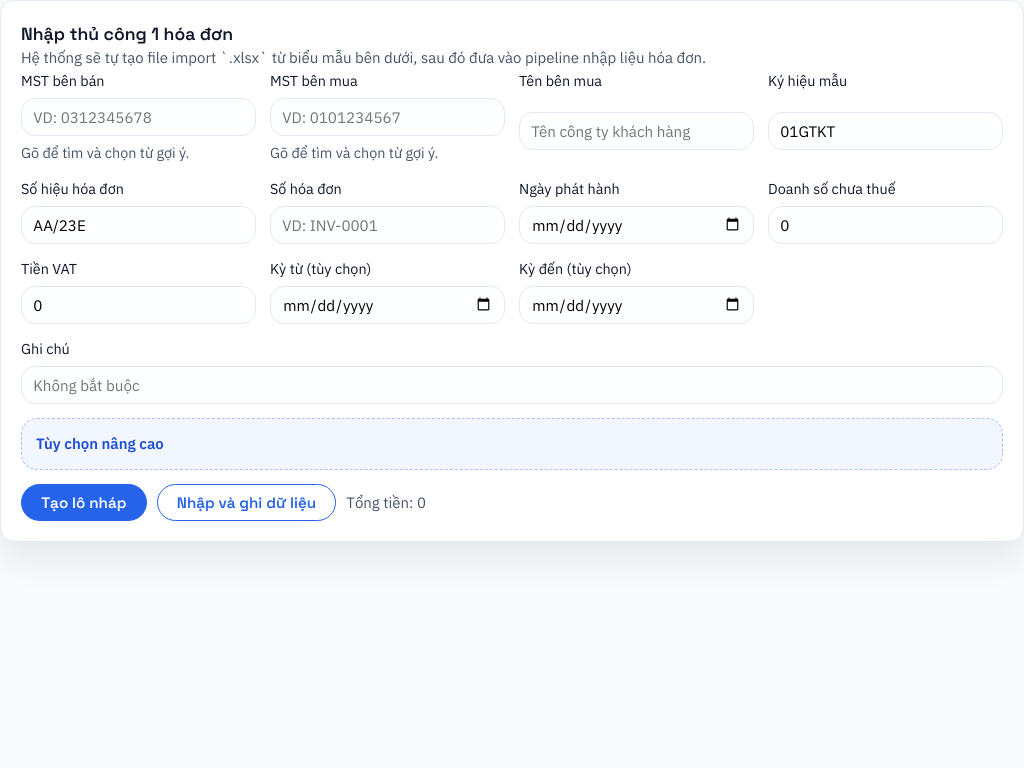
Test: ManualInvoicesSection › validates required invoice fields before upload
Click the button "Tạo lô nháp": (84, 503) [21,484,146,521]
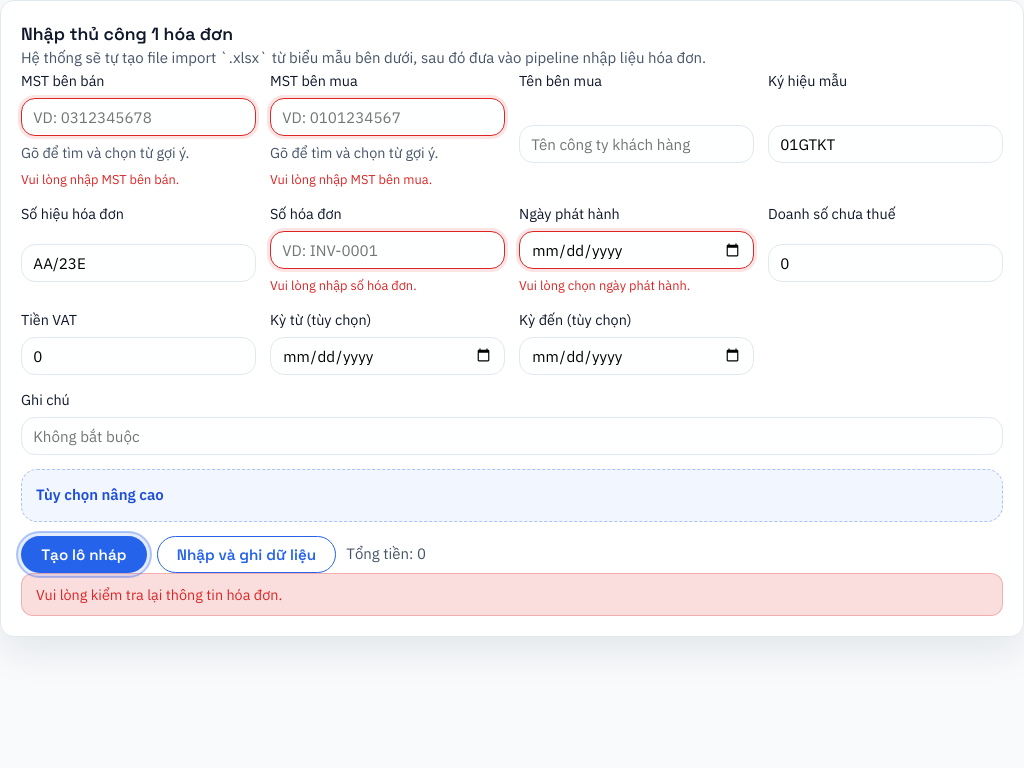
expect the text "Vui lòng kiểm tra lại thông tin hóa đơn." is shown: met, box [21,572,1003,616]
expect the text "Vui lòng nhập MST bên bán." is shown: met, box [21,171,179,188]
expect the text "Vui lòng nhập MST bên mua." is shown: met, box [270,171,432,188]
